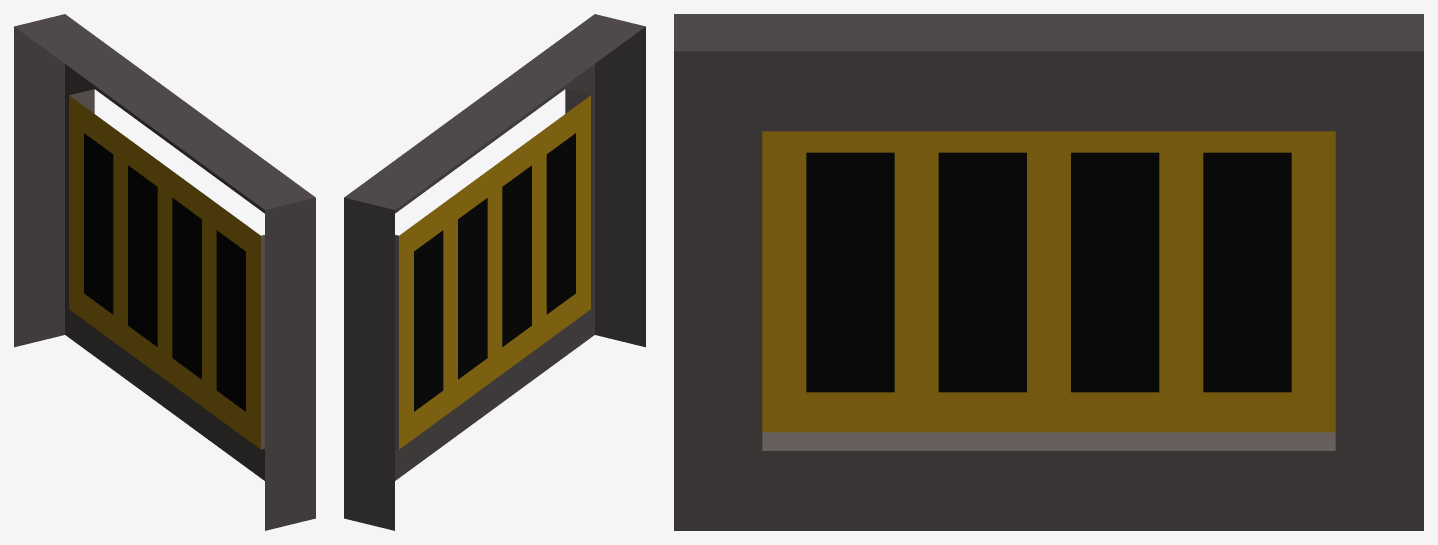
Rendered from obj_grill_0.obj.
3 views of the same model, side by side, from view 1: azimuth 30°, elevation 25°; view 2: azimuth 150°, elevation 25°; view 3: azimuth 270°, elevation 25° (orthographic). The views are drawn at different scales.
Size of the model in its own units: 0.0625 by 0.375 by 0.5312.
